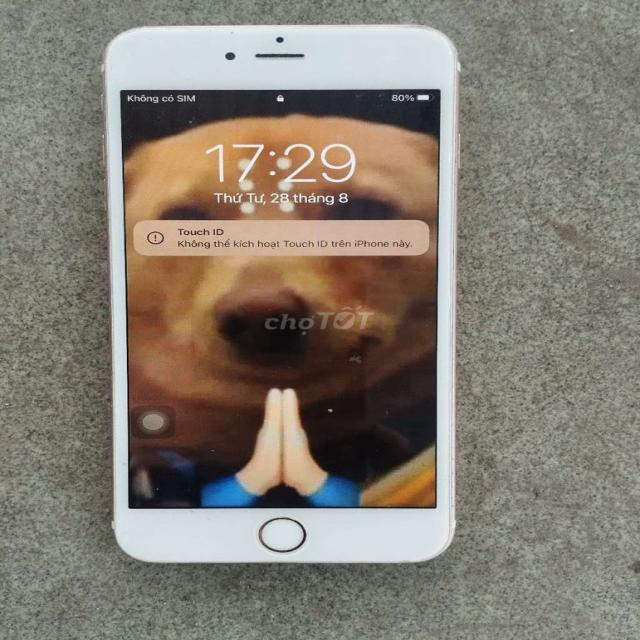gen_6: (103, 27, 459, 562)
